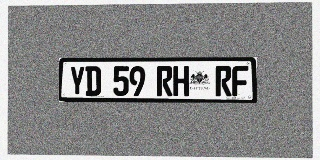5: (113, 66, 129, 96)
9: (129, 66, 145, 96)
D: (85, 66, 101, 96)
F: (232, 66, 248, 96)
H: (173, 66, 189, 96)
R: (215, 66, 232, 96), (157, 66, 172, 96)
Y: (69, 66, 85, 96)
